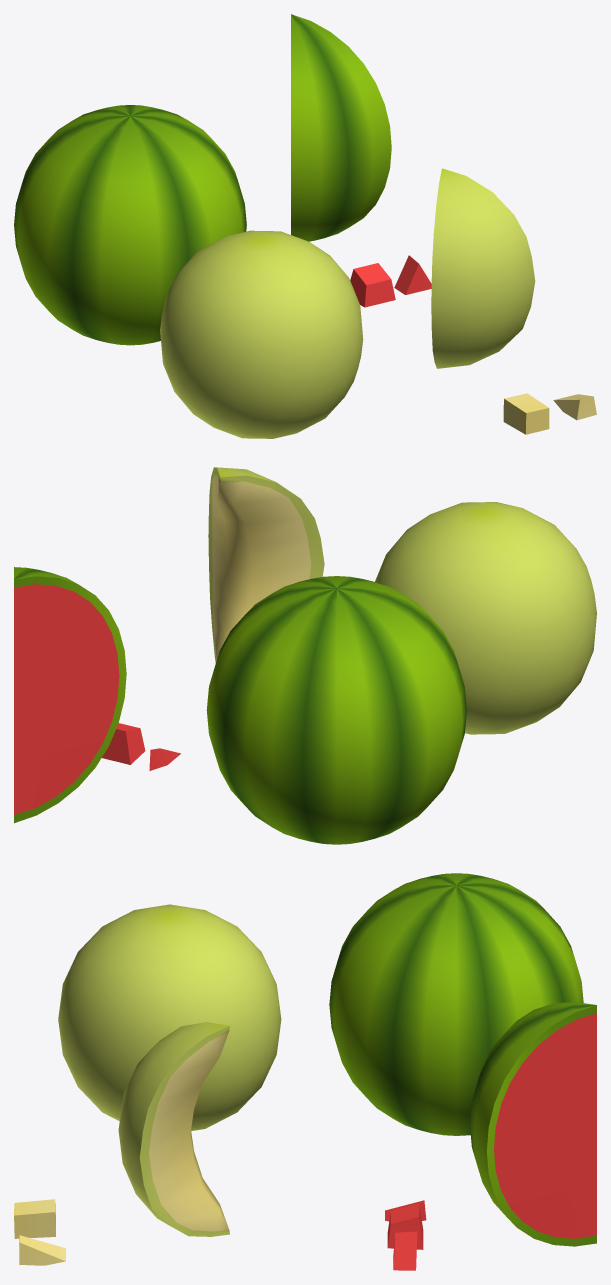
The model's file is melon.fbx.
The picture shows the model from 3 angles, top to bottom: view 1: azimuth 30°, elevation 25°; view 2: azimuth 150°, elevation 25°; view 3: azimuth 270°, elevation 25°; orthographic projection. The views are drawn at different scales.
Visible parts, largest first — view 1: watermelon, melon, watermelon_Sliced_Big, melon_Sliced_Big, melon_Sliced_Small_1, watermelon_Sliced_Small_2, watermelon_Sliced_Small_3, melon_Sliced_Small_2; view 2: watermelon, melon, watermelon_Sliced_Big, melon_Sliced_Big, watermelon_Sliced_Small_2; view 3: watermelon, melon, watermelon_Sliced_Big, melon_Sliced_Big, melon_Sliced_Small_1, melon_Sliced_Small_2, watermelon_Sliced_Small_2, watermelon_Sliced_Small_3.
Part boxes in pixels (box(x1,y1,x2,y2)): watermelon: box(14, 105, 246, 345); melon: box(160, 230, 363, 438); watermelon_Sliced_Big: box(291, 14, 391, 241); melon_Sliced_Big: box(431, 168, 535, 368); melon_Sliced_Small_1: box(503, 393, 549, 434); watermelon_Sliced_Small_2: box(350, 263, 395, 307); watermelon_Sliced_Small_3: box(394, 255, 431, 294); melon_Sliced_Small_2: box(553, 394, 596, 420); watermelon: box(206, 576, 466, 844); melon: box(375, 502, 596, 734); watermelon_Sliced_Big: box(14, 567, 126, 823); melon_Sliced_Big: box(208, 467, 324, 662); watermelon_Sliced_Small_2: box(102, 723, 145, 764); watermelon: box(329, 873, 583, 1135); melon: box(58, 904, 281, 1130); watermelon_Sliced_Big: box(469, 1002, 596, 1246); melon_Sliced_Big: box(118, 1022, 229, 1236); melon_Sliced_Small_1: box(14, 1199, 55, 1238); melon_Sliced_Small_2: box(19, 1235, 65, 1265); watermelon_Sliced_Small_2: box(387, 1203, 423, 1249); watermelon_Sliced_Small_3: box(393, 1231, 417, 1270).
Size of the model in its own units: 2.89 by 3.55 by 1.6.
